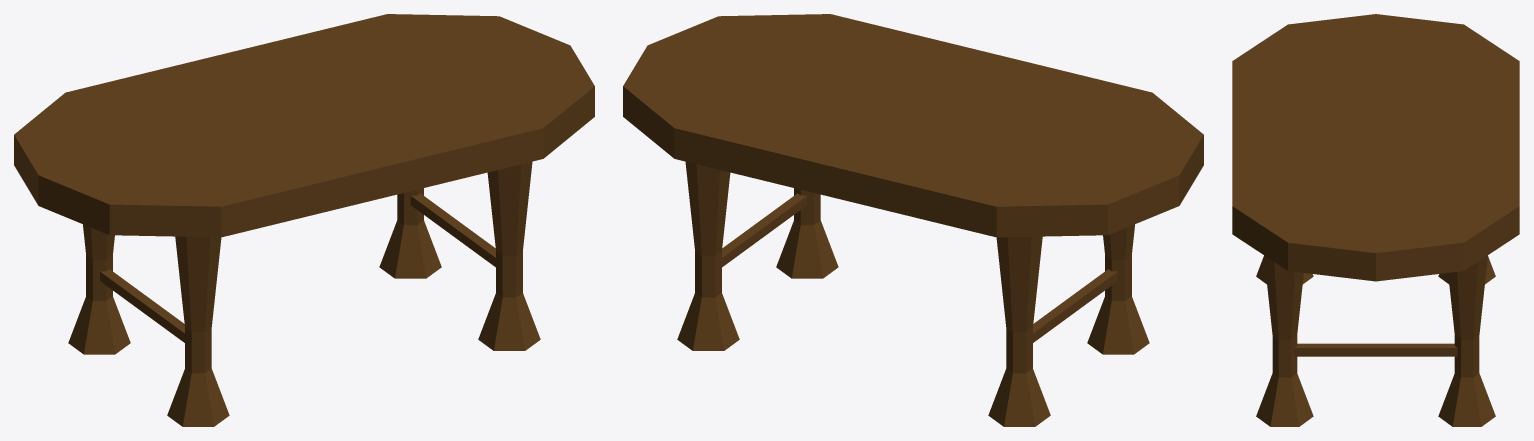
Rendered from table.fbx.
3 views of the same model, side by side, from view 1: azimuth 30°, elevation 25°; view 2: azimuth 150°, elevation 25°; view 3: azimuth 270°, elevation 25° (orthographic). The views are drawn at different scales.
Parts seen in each view (by area): view 1: Cube.010; view 2: Cube.010; view 3: Cube.010.
Boxes of the visible parts, x1,y1,x2,y2 form: Cube.010: [14, 14, 594, 426]; Cube.010: [623, 14, 1203, 426]; Cube.010: [1232, 14, 1519, 426].
Size of the model in its own units: 215 by 176 by 424.
